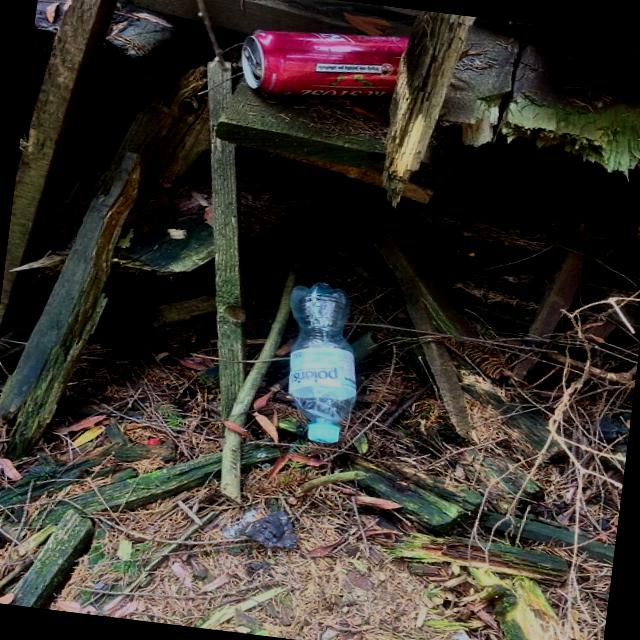Recycle: (235, 17, 436, 114), (270, 279, 378, 449)
